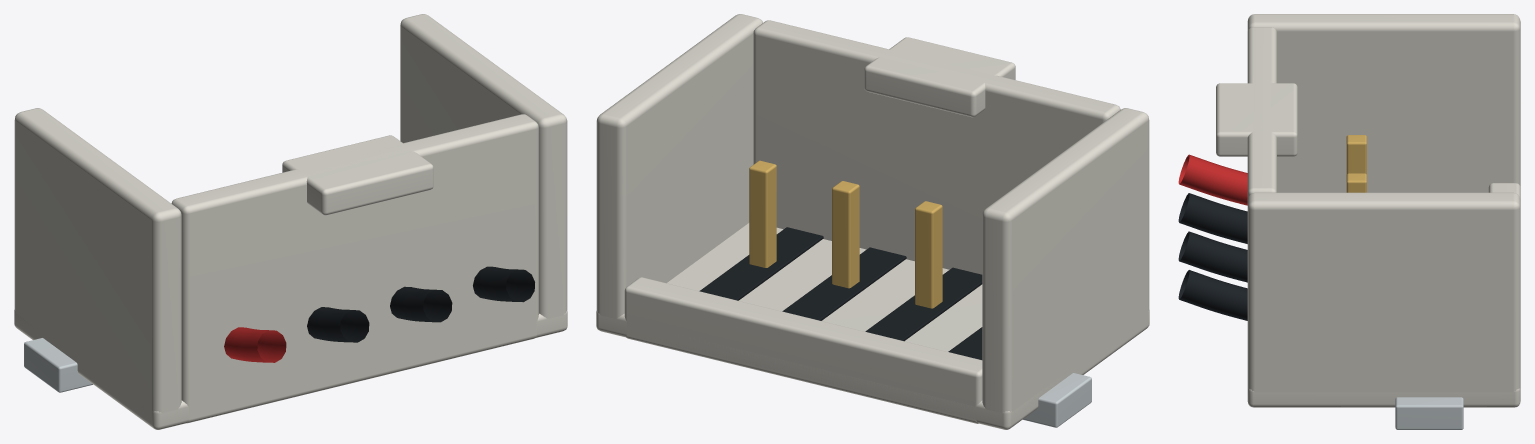
Rendered from grove.glb.
The picture shows the model from 3 angles, left to right: view 1: azimuth 30°, elevation 25°; view 2: azimuth 150°, elevation 25°; view 3: azimuth 270°, elevation 25°; orthographic projection. The views are drawn at different scales.
Parts seen in each view (by area): view 1: grove / Ceramic, grove / Black, grove / Tin, grove / Wire red; view 2: grove / Ceramic, grove / Black, grove / Gold, grove / Tin; view 3: grove / Ceramic, grove / Black, grove / Tin, grove / Wire red, grove / Gold.
Boxes of the visible parts, bbox=[...] form: grove / Ceramic: bbox=[14, 14, 567, 429]; grove / Black: bbox=[307, 266, 534, 342]; grove / Tin: bbox=[24, 338, 92, 392]; grove / Wire red: bbox=[224, 327, 286, 362]; grove / Ceramic: bbox=[596, 14, 1149, 429]; grove / Black: bbox=[699, 227, 982, 359]; grove / Gold: bbox=[749, 160, 942, 308]; grove / Tin: bbox=[1023, 373, 1091, 427]; grove / Ceramic: bbox=[1216, 14, 1520, 407]; grove / Black: bbox=[1178, 193, 1247, 320]; grove / Tin: bbox=[1395, 397, 1463, 429]; grove / Wire red: bbox=[1178, 154, 1247, 205]; grove / Gold: bbox=[1346, 135, 1366, 192].
Bounding box in the file's own units: 10.9 × 5.3 × 7.52.
